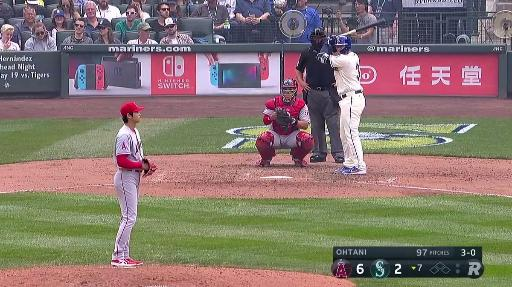pitcher: (114, 102, 156, 268)
